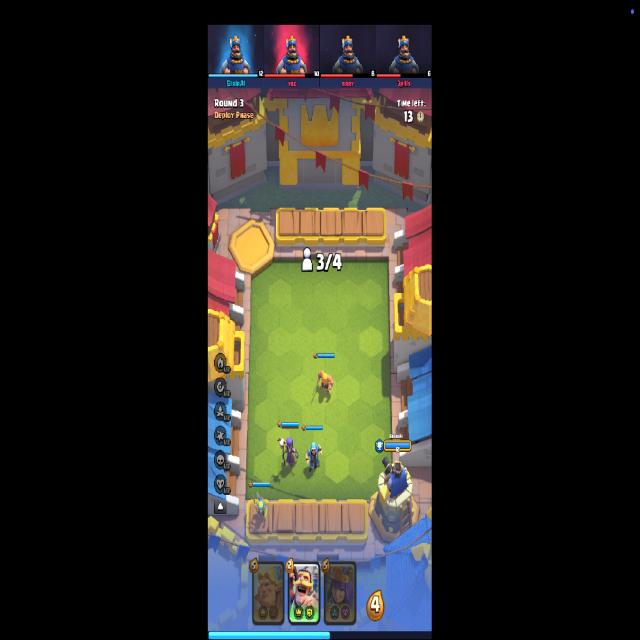barbarian: (312, 369, 334, 402)
card_archer_queen: (323, 560, 357, 626)
card_golden_knight: (252, 560, 284, 626)
card_knight: (288, 561, 320, 625)
spear_goblin: (252, 492, 269, 520)
witch: (278, 437, 298, 467)
wizard: (306, 441, 322, 472)
